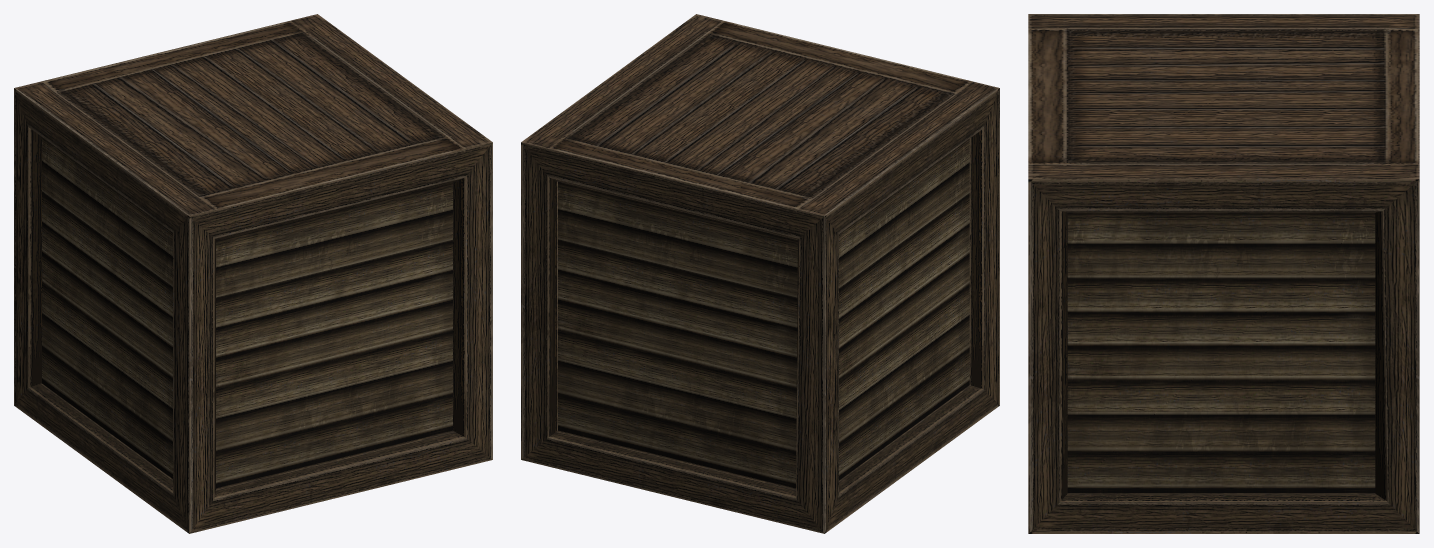
The model's file is House_4X4_05c.fbx.
3 renders of one model, left to right at view 1: azimuth 30°, elevation 25°; view 2: azimuth 150°, elevation 25°; view 3: azimuth 270°, elevation 25°, orthographic. The views are drawn at different scales.
Parts seen in each view (by area): view 1: House_4X4_05c; view 2: House_4X4_05c; view 3: House_4X4_05c.
Boxes of the visible parts, left/top/right/bottom form: House_4X4_05c: left=14, top=14, right=492, bottom=533; House_4X4_05c: left=521, top=14, right=999, bottom=533; House_4X4_05c: left=1028, top=14, right=1419, bottom=533.
Size of the model in its own units: 4 by 4 by 4.
